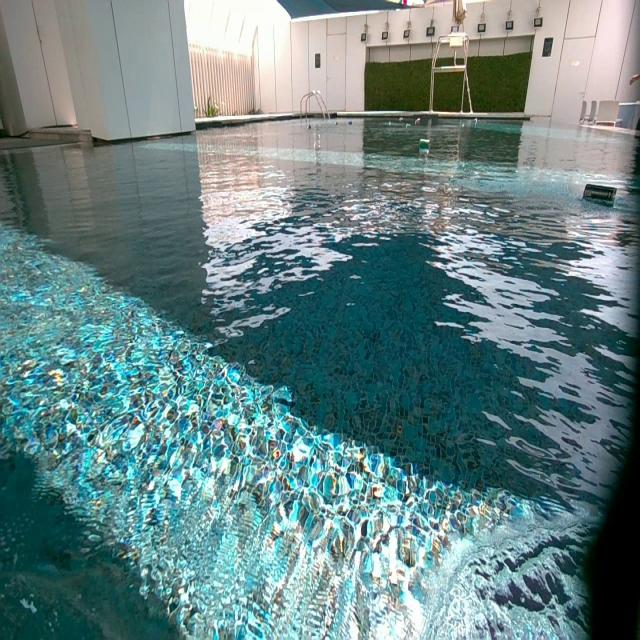Cans: (584, 182, 616, 207), (419, 140, 430, 152), (415, 116, 422, 125), (307, 122, 313, 130), (472, 118, 478, 124), (348, 120, 354, 126), (334, 121, 339, 126), (406, 124, 412, 128), (399, 118, 404, 122), (388, 121, 392, 125)
